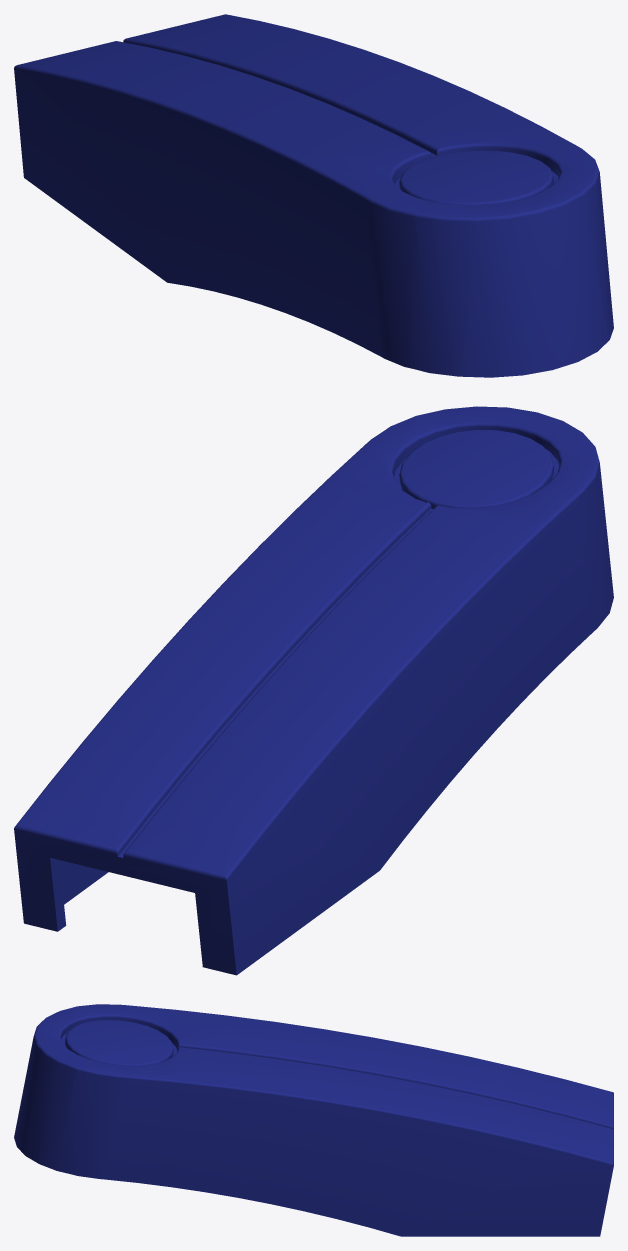
File: original-4.obj
3 views of the same model, one above another, from view 1: azimuth 30°, elevation 25°; view 2: azimuth 150°, elevation 25°; view 3: azimuth 270°, elevation 25° (orthographic). The views are drawn at different scales.
Visible parts, largest first — view 1: Difference/mesh10/mesh10-geometry#mesh10-geometry; view 2: Difference/mesh10/mesh10-geometry#mesh10-geometry; view 3: Difference/mesh10/mesh10-geometry#mesh10-geometry.
Part boxes in pixels (x1=…): Difference/mesh10/mesh10-geometry#mesh10-geometry: x1=14, y1=14, x2=613, y2=377; Difference/mesh10/mesh10-geometry#mesh10-geometry: x1=14, y1=406, x2=613, y2=975; Difference/mesh10/mesh10-geometry#mesh10-geometry: x1=14, y1=1004, x2=613, y2=1236.
Size of the model in its own units: 0.5107 by 0.5491 by 1.8.
